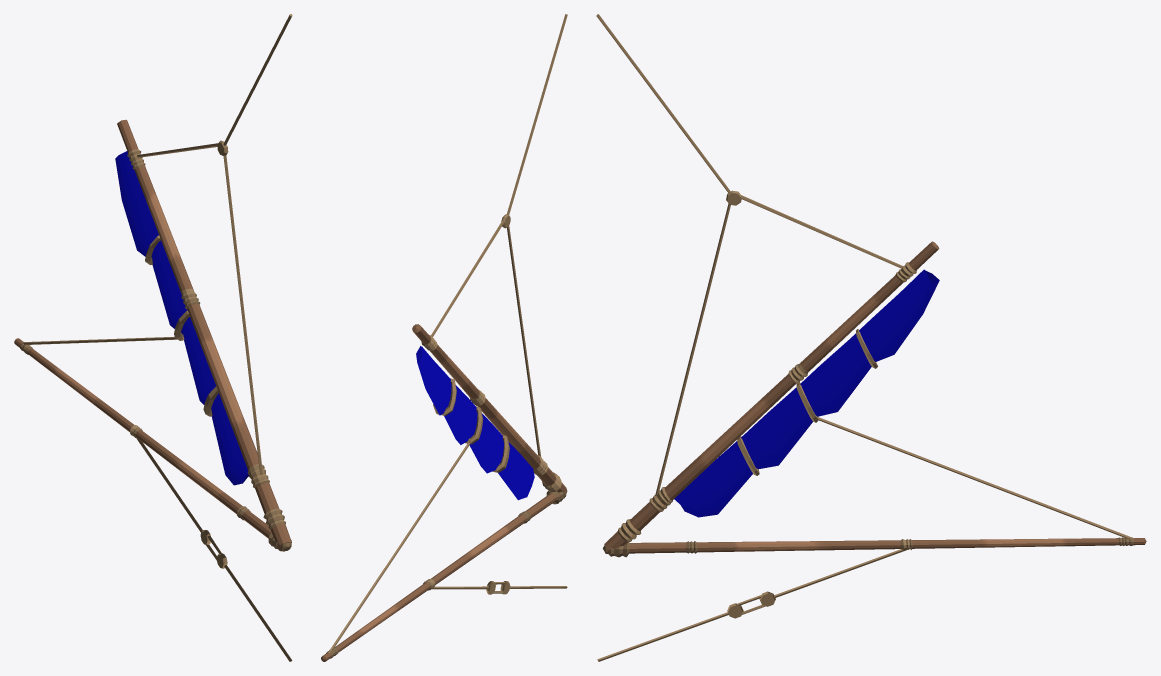
File: SM_Veh_Ship_L_Mast_Back_01_Boom_01_Back_01_Tied.fbx
3 views of the same model, side by side, from view 1: azimuth 30°, elevation 25°; view 2: azimuth 150°, elevation 25°; view 3: azimuth 270°, elevation 25° (orthographic). The views are drawn at different scales.
Visible parts, largest first — view 1: SM_Veh_Ship_L_Mast_Back_01_Boom_01_Back_01_Tied; view 2: SM_Veh_Ship_L_Mast_Back_01_Boom_01_Back_01_Tied; view 3: SM_Veh_Ship_L_Mast_Back_01_Boom_01_Back_01_Tied.
Part boxes in pixels (bbox=[...]): SM_Veh_Ship_L_Mast_Back_01_Boom_01_Back_01_Tied: bbox=[14, 14, 292, 661]; SM_Veh_Ship_L_Mast_Back_01_Boom_01_Back_01_Tied: bbox=[321, 14, 567, 661]; SM_Veh_Ship_L_Mast_Back_01_Boom_01_Back_01_Tied: bbox=[596, 14, 1146, 661].
Bounding box in the file's own units: 72.93 × 2032 × 1566.
